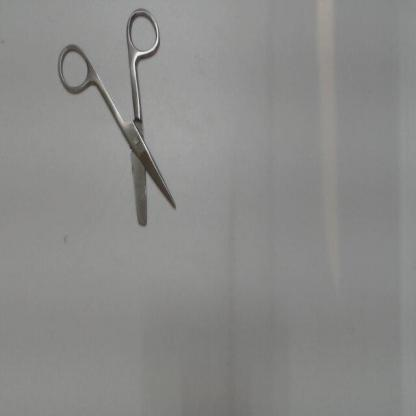Dressing Scissors: (50, 3, 181, 232)
